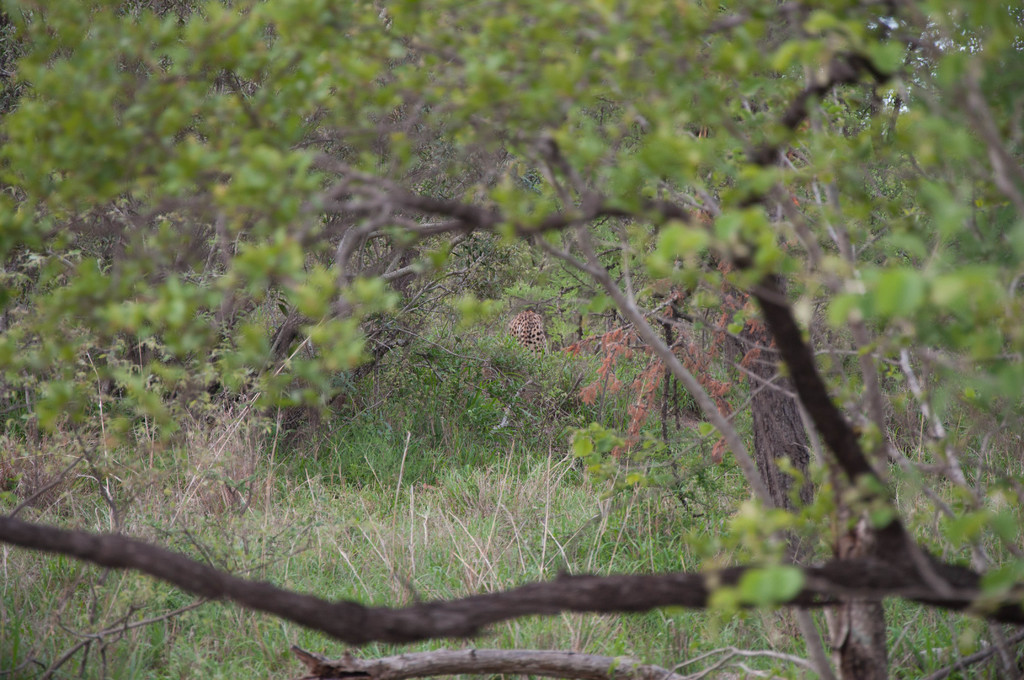Animal: (512, 306, 545, 351)
